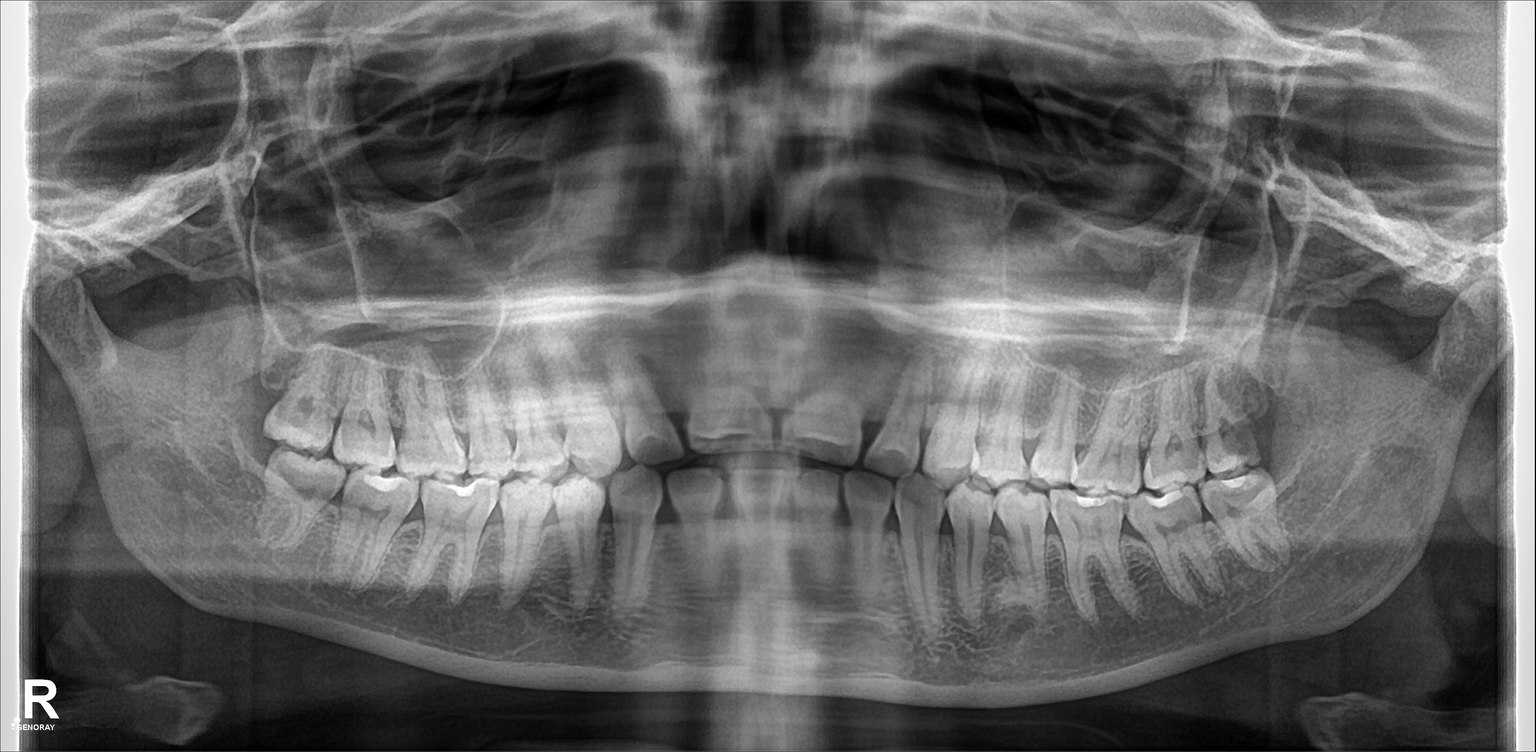Dental Caries: (1220, 419, 1254, 459), (870, 441, 910, 472), (639, 434, 675, 468)
